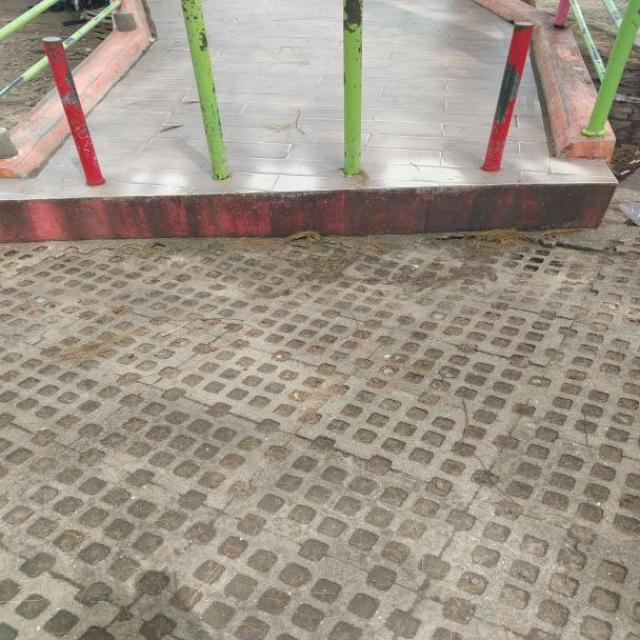barrier ahead at: (38, 32, 128, 191), (174, 0, 236, 182), (336, 0, 381, 182), (479, 22, 532, 169)
